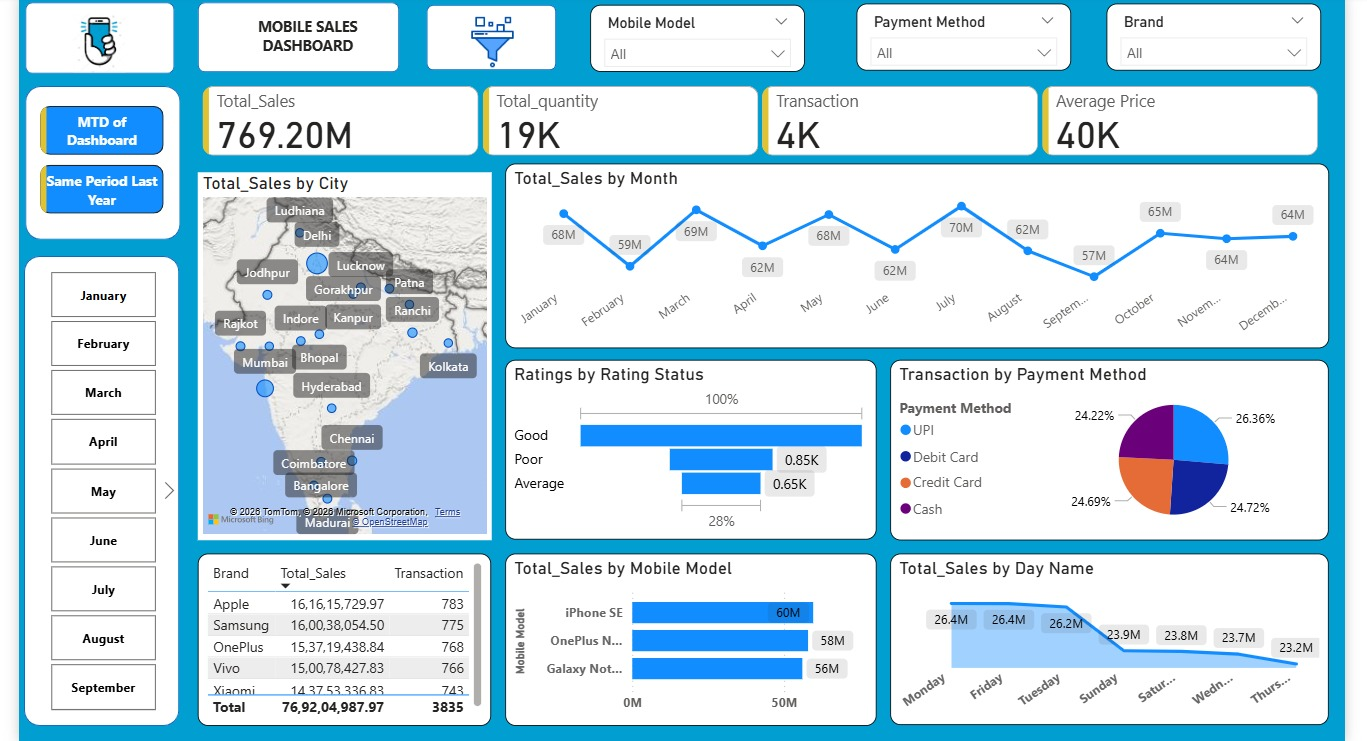

This screenshot's page, from the dashboard's own definition file:
{"tool":"powerbi","page":{"name":"Dashboard","canvas":[1280,720],"ordinal":0},"visuals":[{"type":"shape","box":[393.1,8.6,125.3,63.4],"z":0},{"type":"shape","box":[5.8,5.8,144,69.1],"z":1000},{"type":"image","box":[17.3,11.5,121,66.2],"z":2000},{"type":"shape","box":[5.8,86.4,149.8,148.3],"z":3000},{"type":"shape","box":[4.3,250.6,149.8,453.6],"z":4000},{"type":"image","box":[407.5,14.4,97.9,60.5],"z":5000},{"type":"cardVisual","fields":{"Data":["Sales_Data.Total_Sales","Sales_Data.Total_quantity","Sales_Data.Transaction","Sales_Data.Average Price"]},"box":[172.8,82.1,1091.5,77.8],"z":6000},{"type":"slicer","fields":{"Values":["Sales_Data.Mobile Model"]},"box":[551.5,8.6,207.4,64.8],"z":7000},{"type":"slicer","fields":{"Values":["Sales_Data.Brand"]},"box":[1049.8,7.2,207.4,64.8],"z":8000},{"type":"slicer","fields":{"Values":["Sales_Data.Payment Method"]},"box":[807.8,7.2,207.4,64.8],"z":9000},{"type":"shape","box":[172.8,5.8,194.4,67.7],"z":10000},{"type":"textbox","box":[198.7,14.4,131,51.8],"z":11000},{"type":"lineChart","fields":{"Category":["Custom_Calender.Date.Variation.Date Hierarchy.Month"],"Y":["Sales_Data.Total_Sales"]},"box":[456.5,161.3,807.8,178.6],"z":12000},{"type":"funnel","title":" Ratings by Rating Status","fields":{"Y":["CountNonNull(Sales_Data.Customer Ratings)"],"Category":["Sales_Data.Rating Status"]},"box":[456.5,351.4,371.5,174.2],"z":13000},{"type":"pieChart","fields":{"Y":["Sales_Data.Transaction"],"Category":["Sales_Data.Payment Method"]},"box":[841,351.4,423.4,174.2],"z":14000},{"type":"barChart","fields":{"Y":["Sales_Data.Total_Sales"],"Category":["Sales_Data.Mobile Model"]},"box":[468,538.6,360,165.6],"z":15000},{"type":"areaChart","fields":{"Y":["Sales_Data.Total_Sales"],"Category":["Custom_Calender.Day Name"]},"box":[841,538.6,423.4,165.6],"z":16000},{"type":"tableEx","fields":{"Values":["Sales_Data.Brand","Sales_Data.Total_Sales","Sales_Data.Transaction"]},"box":[172.8,538.6,277.9,165.6],"z":17000},{"type":"slicer","fields":{"Values":["Custom_Calender.Date.Variation.Date Hierarchy.Month"]},"box":[4.3,259.2,151.2,436.3],"z":18000},{"type":"pageNavigator","box":[20.2,106.6,119.5,105.1],"z":20000},{"type":"map","fields":{"Category":["Sales_Data.City"]},"box":[167,177.1,283.7,335.5],"z":21000}]}

Visuals, with their boxes in screenshot pixels (x1, y1, x2, y2):
shape: bbox=(428, 0, 559, 61)
shape: bbox=(20, 0, 172, 65)
image: bbox=(32, 0, 160, 67)
shape: bbox=(20, 77, 178, 233)
shape: bbox=(19, 249, 176, 726)
image: bbox=(443, 1, 546, 65)
cardVisual - Sales_Data.Total_Sales x Sales_Data.Total_quantity: bbox=(196, 72, 1344, 154)
slicer - Sales_Data.Mobile Model: bbox=(594, 0, 812, 63)
slicer - Sales_Data.Brand: bbox=(1118, 0, 1336, 61)
slicer - Sales_Data.Payment Method: bbox=(864, 0, 1082, 61)
shape: bbox=(196, 0, 400, 63)
textbox: bbox=(223, 1, 361, 55)
lineChart - Custom_Calender.Date.Variation.Date Hierarchy.Month x Sales_Data.Total_Sales: bbox=(494, 155, 1344, 343)
" Ratings by Rating Status" funnel: bbox=(494, 355, 885, 538)
pieChart - Sales_Data.Transaction x Sales_Data.Payment Method: bbox=(899, 355, 1344, 538)
barChart - Sales_Data.Total_Sales x Sales_Data.Mobile Model: bbox=(506, 552, 885, 726)
areaChart - Sales_Data.Total_Sales x Custom_Calender.Day Name: bbox=(899, 552, 1344, 726)
tableEx - Sales_Data.Brand x Sales_Data.Total_Sales: bbox=(196, 552, 488, 726)
slicer - Custom_Calender.Date.Variation.Date Hierarchy.Month: bbox=(19, 258, 178, 717)
pageNavigator: bbox=(35, 98, 161, 208)
map - Sales_Data.City: bbox=(190, 172, 488, 525)
